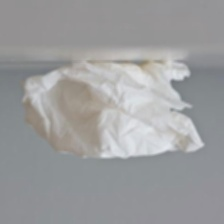tissue: (14, 51, 208, 166)
